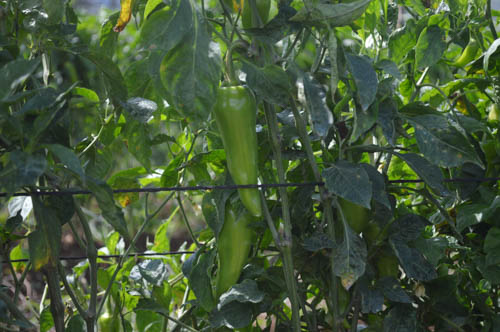ChiliPepper: (214, 87, 263, 214), (211, 204, 250, 294)
